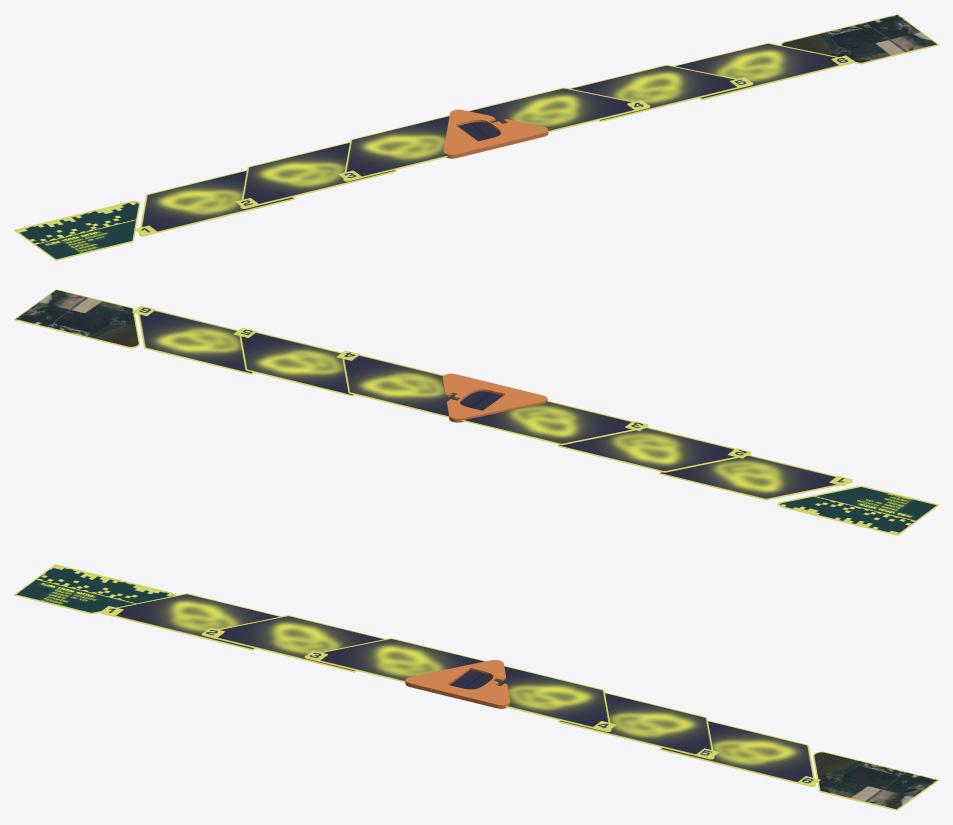
File: inventario.glb
3 views of the same model, one above another, from view 1: azimuth 30°, elevation 25°; view 2: azimuth 150°, elevation 25°; view 3: azimuth 330°, elevation 25° (orthographic).
Parts seen in each view (by area): view 1: criatura_panel_03.001, criatura_panel_04.001, criatura_panel_02.001, criatura_panel_01.001, metadata_panel.001, mapa_panel.001, criatura_panel_05.001, criatura_panel_06.001, d logo 3D.001, panel rim.015, panel rim.009, panel rim.010 (+2 smaller); view 2: criatura_panel_04.001, criatura_panel_03.001, criatura_panel_01.001, criatura_panel_02.001, mapa_panel.001, criatura_panel_05.001, criatura_panel_06.001, metadata_panel.001, d logo 3D.001, panel rim.015, panel rim.013, panel rim.012 (+1 smaller); view 3: criatura_panel_04.001, criatura_panel_03.001, criatura_panel_05.001, mapa_panel.001, criatura_panel_06.001, metadata_panel.001, criatura_panel_02.001, criatura_panel_01.001, d logo 3D.001, panel rim.012, panel rim.013, panel rim.009 (+1 smaller).
Boxes of the visible parts, left/top/right/bottom form: criatura_panel_03.001: left=346, top=116, right=489, bottom=176; criatura_panel_04.001: left=470, top=88, right=633, bottom=138; criatura_panel_02.001: left=243, top=142, right=394, bottom=203; criatura_panel_01.001: left=141, top=170, right=293, bottom=231; metadata_panel.001: left=16, top=202, right=138, bottom=259; mapa_panel.001: left=782, top=15, right=936, bottom=62; criatura_panel_05.001: left=571, top=65, right=737, bottom=120; criatura_panel_06.001: left=675, top=43, right=838, bottom=98; d logo 3D.001: left=443, top=109, right=548, bottom=158; panel rim.015: left=14, top=201, right=140, bottom=260; panel rim.009: left=569, top=64, right=752, bottom=121; panel rim.010: left=674, top=43, right=854, bottom=100; criatura_panel_04.001: left=344, top=355, right=490, bottom=416; criatura_panel_03.001: left=464, top=392, right=646, bottom=443; criatura_panel_01.001: left=661, top=455, right=836, bottom=498; criatura_panel_02.001: left=559, top=428, right=734, bottom=470; mapa_panel.001: left=16, top=290, right=138, bottom=346; criatura_panel_05.001: left=241, top=332, right=352, bottom=394; criatura_panel_06.001: left=139, top=310, right=251, bottom=372; metadata_panel.001: left=779, top=487, right=936, bottom=534; d logo 3D.001: left=442, top=373, right=547, bottom=422; panel rim.015: left=777, top=485, right=938, bottom=535; panel rim.013: left=659, top=455, right=852, bottom=500; panel rim.012: left=557, top=427, right=751, bottom=472; criatura_panel_04.001: left=464, top=666, right=608, bottom=726; criatura_panel_03.001: left=320, top=639, right=484, bottom=688; criatura_panel_05.001: left=560, top=693, right=711, bottom=754; mapa_panel.001: left=814, top=752, right=936, bottom=809; criatura_panel_06.001: left=661, top=721, right=813, bottom=781; metadata_panel.001: left=16, top=565, right=173, bottom=612; criatura_panel_02.001: left=217, top=616, right=383, bottom=670; criatura_panel_01.001: left=116, top=594, right=279, bottom=649; d logo 3D.001: left=405, top=660, right=510, bottom=708; panel rim.012: left=202, top=615, right=384, bottom=672; panel rim.013: left=100, top=593, right=281, bottom=650; panel rim.009: left=558, top=692, right=714, bottom=759.
Bounding box in the file's own units: 1.78 × 0.0217 × 0.1597.
Materials: 6 (3 with a texture image).
